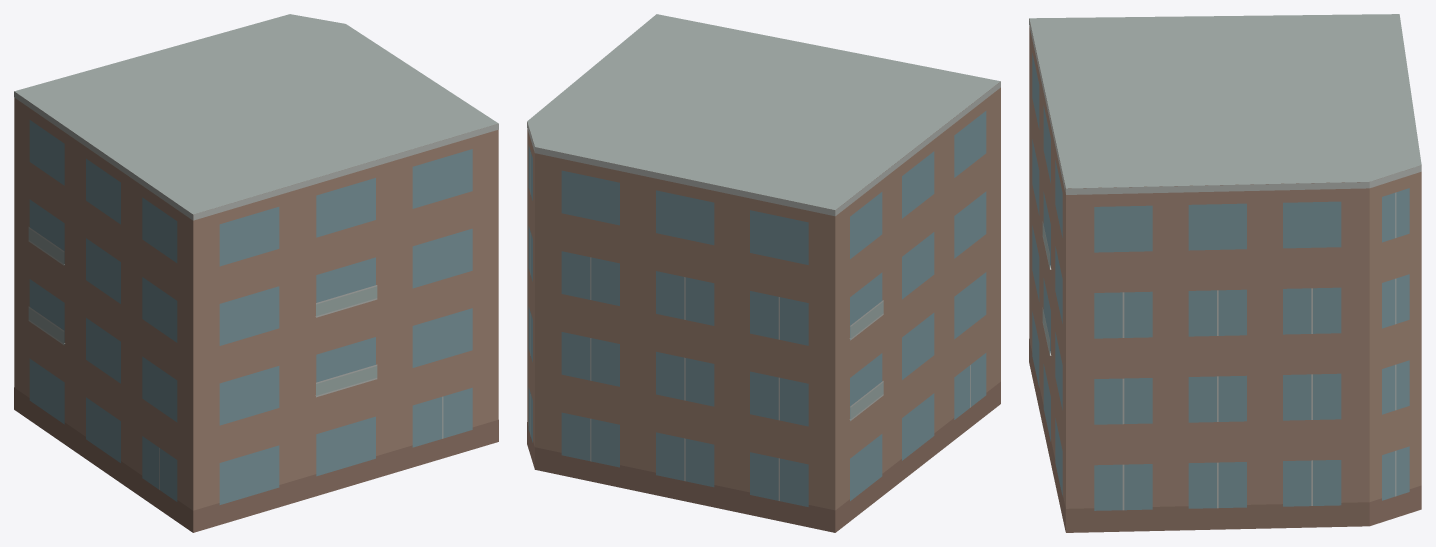
File: survey-upis-32732771.glb
The picture shows the model from 3 angles, left to right: view 1: azimuth 30°, elevation 25°; view 2: azimuth 150°, elevation 25°; view 3: azimuth 270°, elevation 25°; orthographic projection. The views are drawn at different scales.
Visible parts, largest first — view 1: survey-upis-32732771.tmp; view 2: survey-upis-32732771.tmp; view 3: survey-upis-32732771.tmp.
Boxes of the visible parts, x1,y1,x2,y2 form: survey-upis-32732771.tmp: (14,14,498,532); survey-upis-32732771.tmp: (527,14,1000,532); survey-upis-32732771.tmp: (1029,14,1421,532).
Size of the model in its own units: 13.92 by 12.8 by 13.23.
